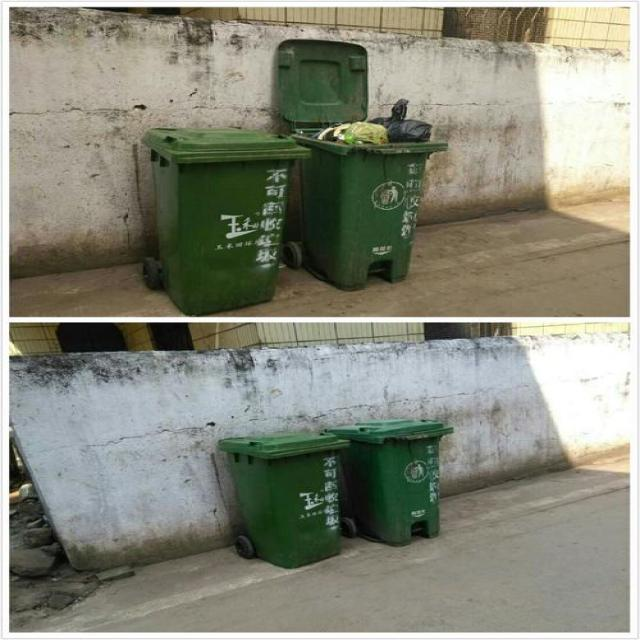garbage_bin: (139, 123, 306, 315), (218, 433, 350, 569), (326, 421, 452, 547)
overflow: (292, 98, 448, 290)
